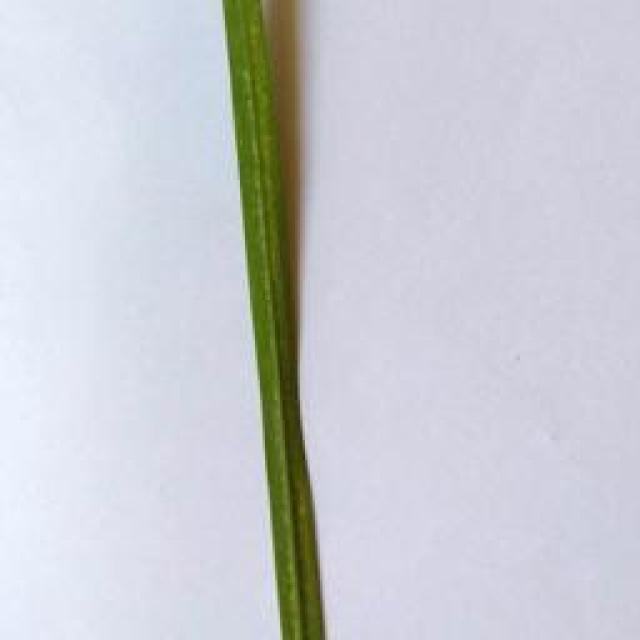Healthy-Plant: (223, 0, 325, 637)
